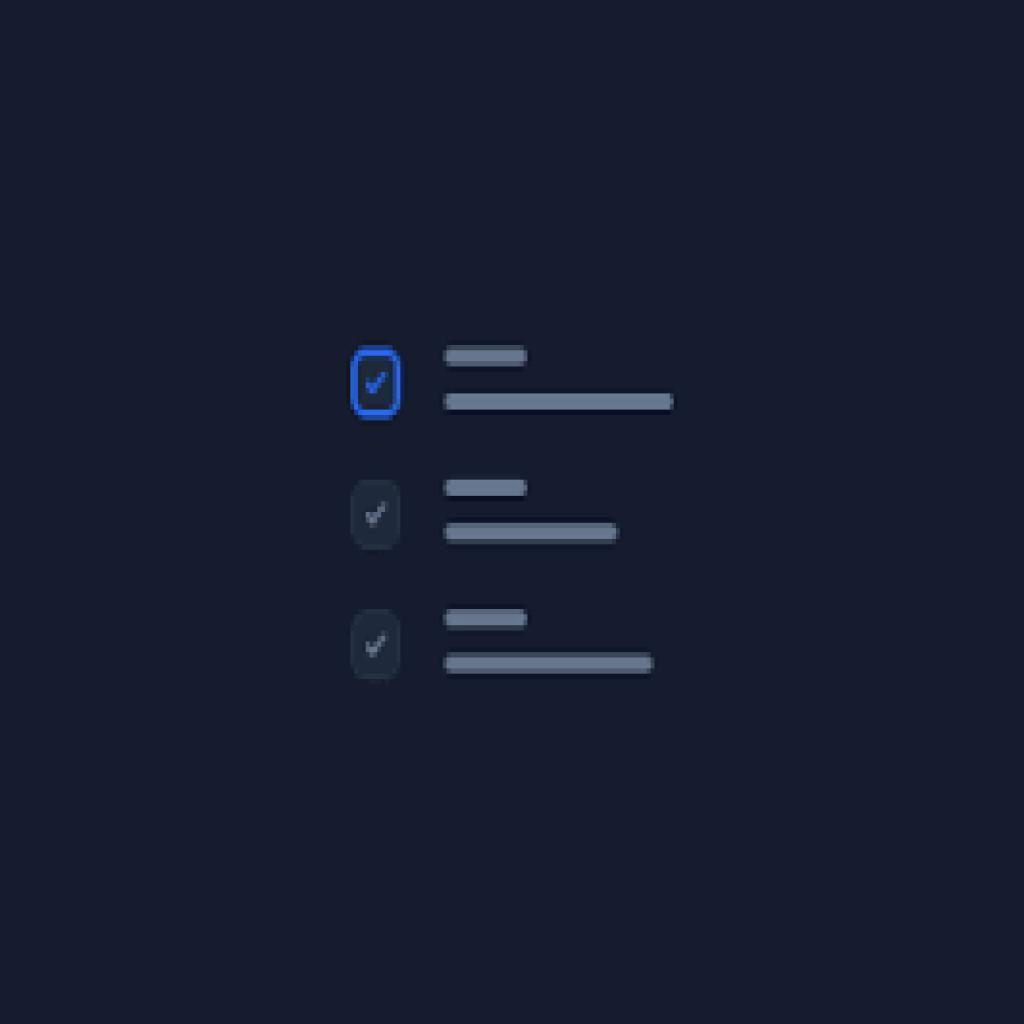checkbox: (345, 476, 405, 554), (348, 346, 404, 422), (349, 611, 404, 683)
